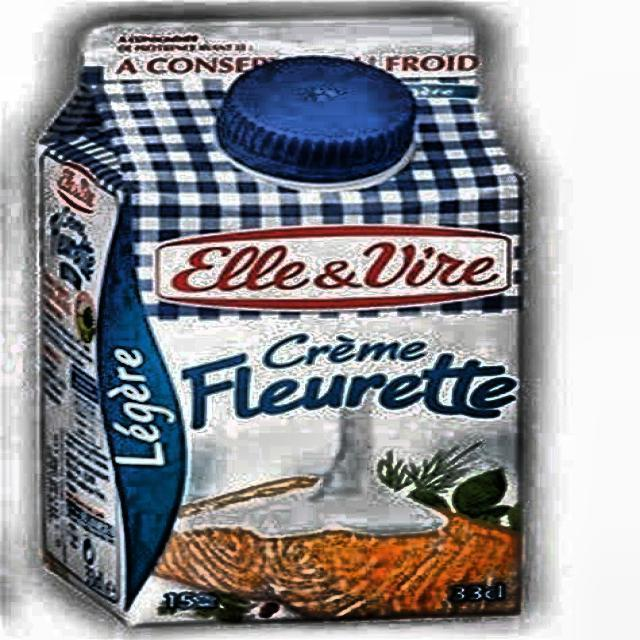cardboard: (35, 15, 528, 627)
